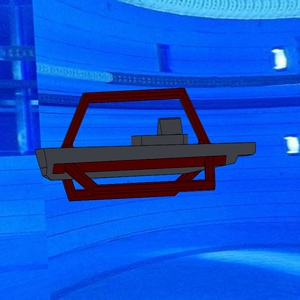submarine: (30, 85, 260, 204)
